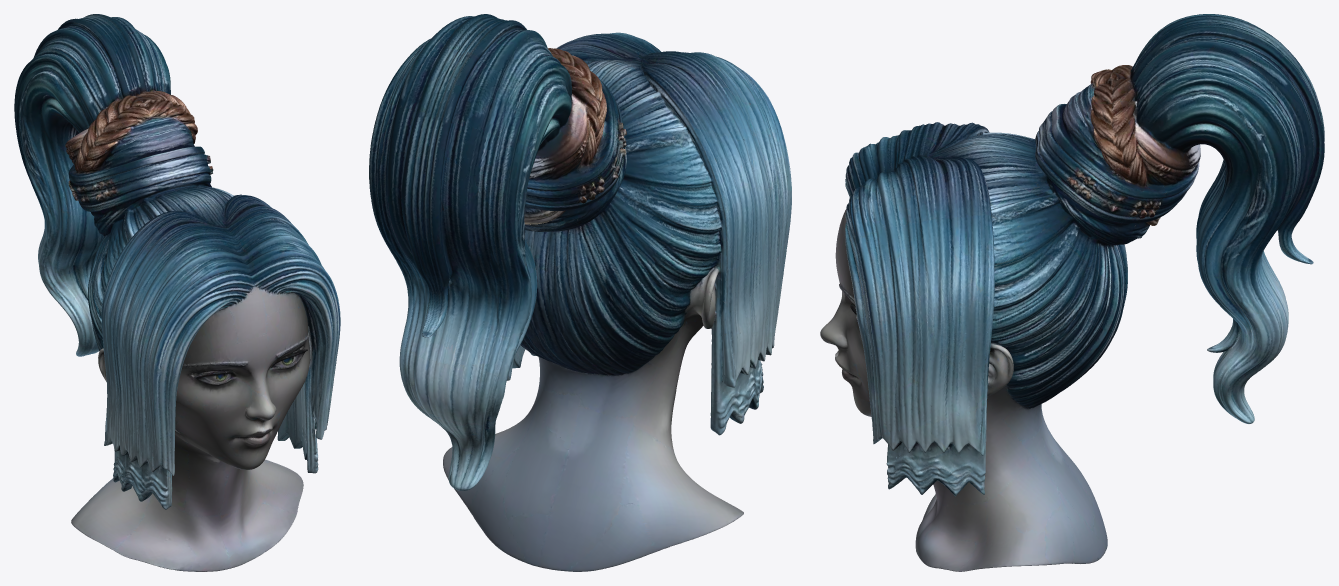
File: Meshy_AI_Azure Cascade_1780024665_image-to-3d-texture-compressed.glb
3 views of the same model, side by side, from view 1: azimuth 30°, elevation 25°; view 2: azimuth 150°, elevation 25°; view 3: azimuth 270°, elevation 25° (orthographic). The views are drawn at different scales.
Parts seen in each view (by area): view 1: mesh_0; view 2: mesh_0; view 3: mesh_0.
Boxes of the visible parts, box(x1,y1,x2,y2) form: mesh_0: box(14, 14, 340, 571); mesh_0: box(369, 14, 791, 571); mesh_0: box(820, 14, 1324, 571).
Bounding box in the file's own units: 0.9702 × 1.9 × 1.65.
1 material, 1 textured.
